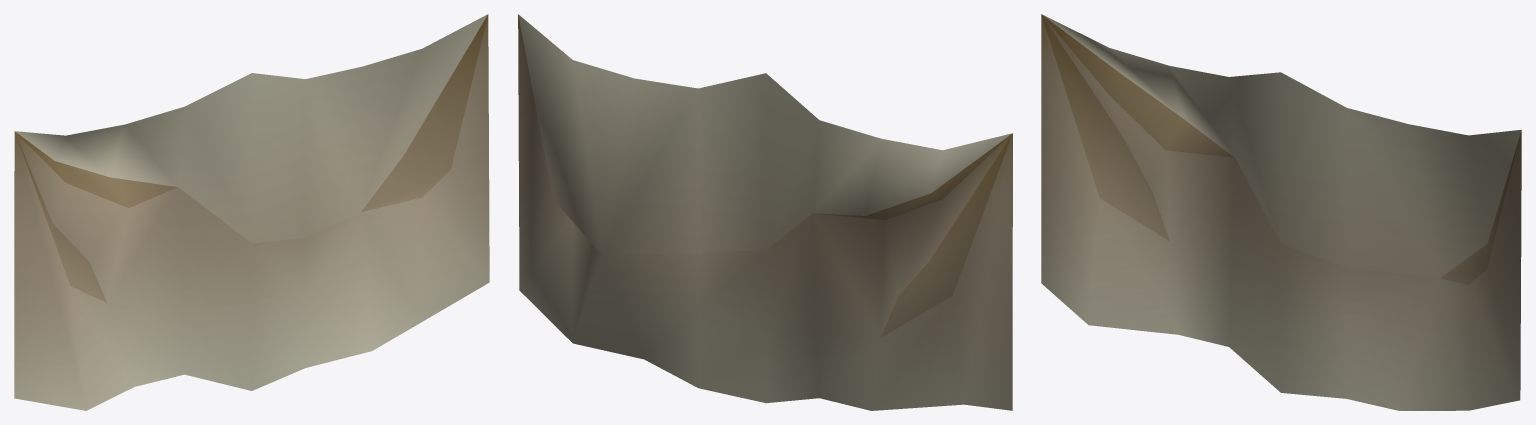
File: SM_FabricLarge_01.fbx
3 renders of one model, left to right at view 1: azimuth 30°, elevation 25°; view 2: azimuth 150°, elevation 25°; view 3: azimuth 330°, elevation 25°, orthographic. The views are drawn at different scales.
Parts seen in each view (by area): view 1: SM_FabricLarge_01; view 2: SM_FabricLarge_01; view 3: SM_FabricLarge_01.
Boxes of the visible parts, x1=… form: SM_FabricLarge_01: x1=14, y1=14, x2=489, y2=410; SM_FabricLarge_01: x1=518, y1=14, x2=1012, y2=410; SM_FabricLarge_01: x1=1041, y1=14, x2=1521, y2=410.
Bounding box in the file's own units: 3 × 1.92 × 0.4299.
